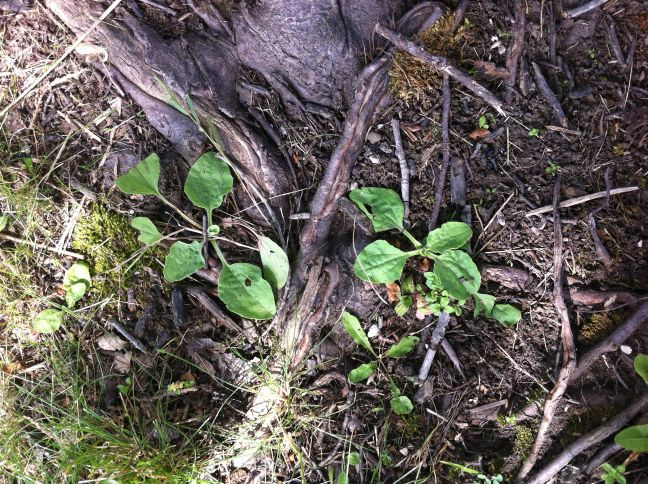weed1: (113, 149, 290, 325), (344, 183, 497, 313)
